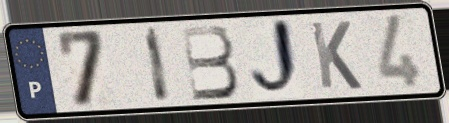4: (375, 11, 425, 93)
7: (56, 29, 110, 110)
B: (177, 22, 243, 103)
I: (142, 25, 174, 105)
J: (247, 16, 305, 102)
K: (306, 19, 365, 92)
